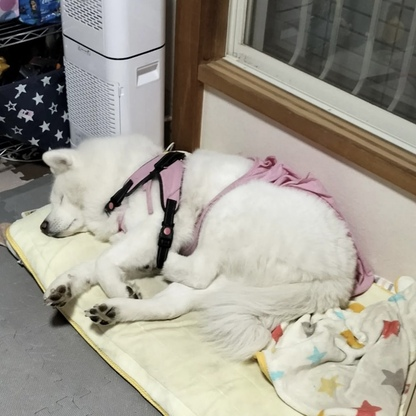akita: (35, 131, 368, 363)
